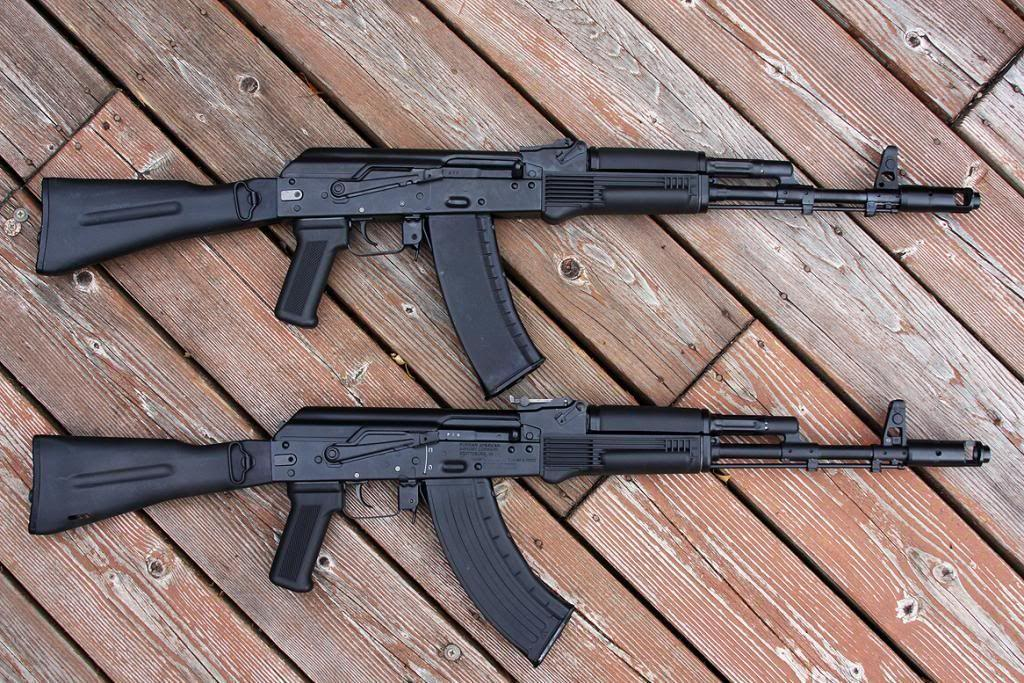larga: (27, 397, 994, 671), (33, 138, 984, 401)
